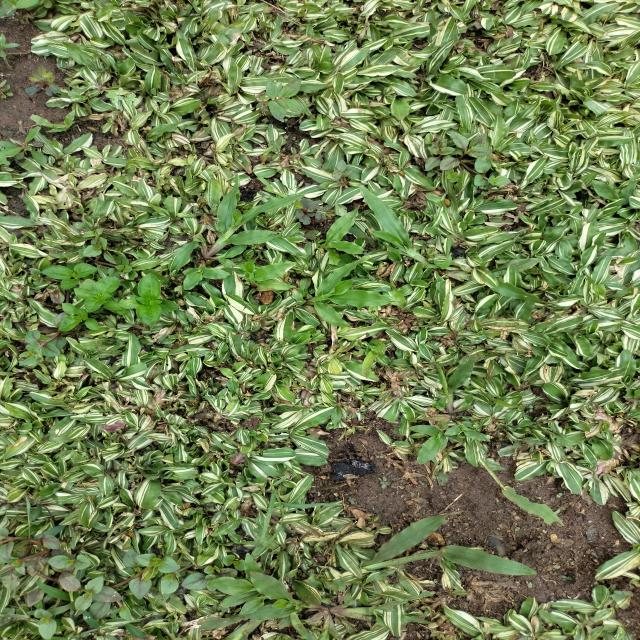buah daun: (292, 196, 337, 225), (24, 66, 63, 98)
gingseng jawa: (0, 124, 46, 158)
rambat atas: (259, 477, 345, 555), (82, 610, 157, 640)
rambat bawah: (205, 552, 347, 639), (358, 512, 540, 576), (201, 171, 308, 267), (356, 184, 442, 272), (303, 255, 394, 329), (480, 479, 566, 529), (330, 589, 438, 628), (316, 202, 368, 266), (434, 353, 478, 416), (241, 258, 299, 292), (406, 424, 451, 466), (182, 258, 230, 292), (444, 418, 492, 442)
tunggang tengah: (252, 77, 307, 123), (331, 158, 353, 184)
ungu tunggang: (0, 526, 124, 619), (116, 548, 238, 598), (425, 130, 513, 188), (80, 225, 138, 278), (15, 324, 70, 367)
